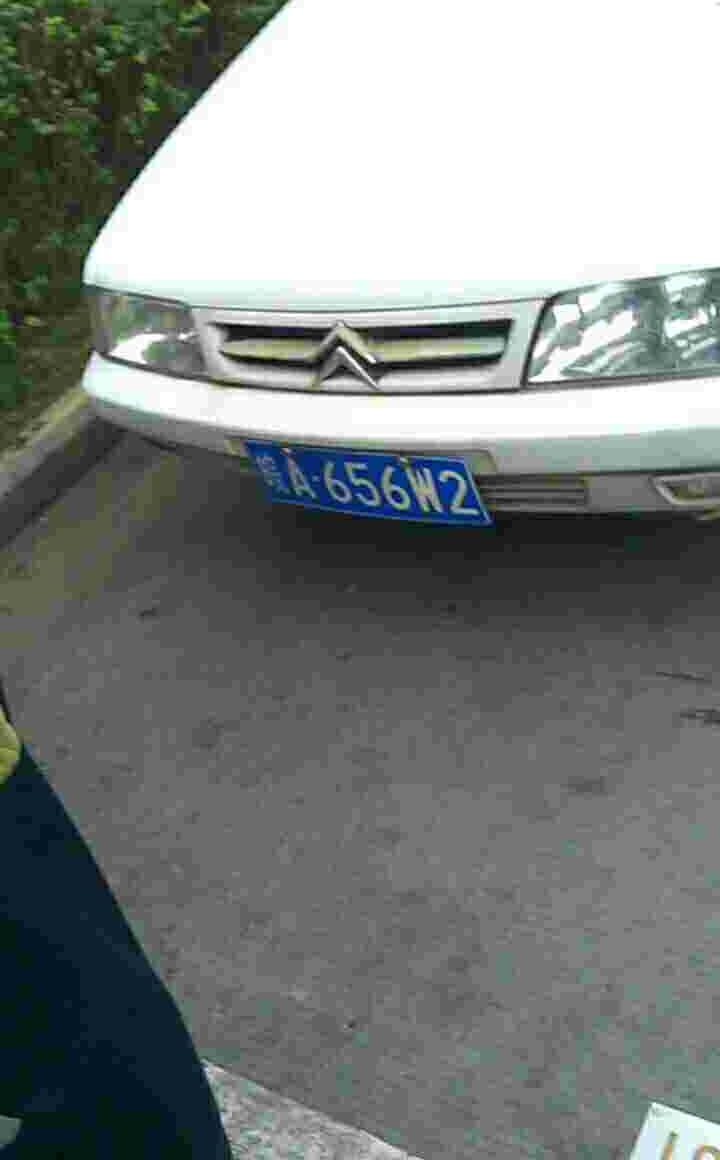license_plate: (243, 444, 498, 533)
